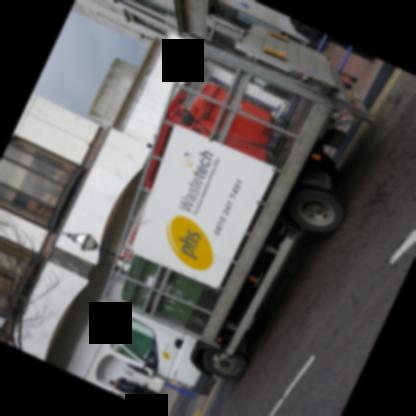backpack: (290, 17, 322, 42)
